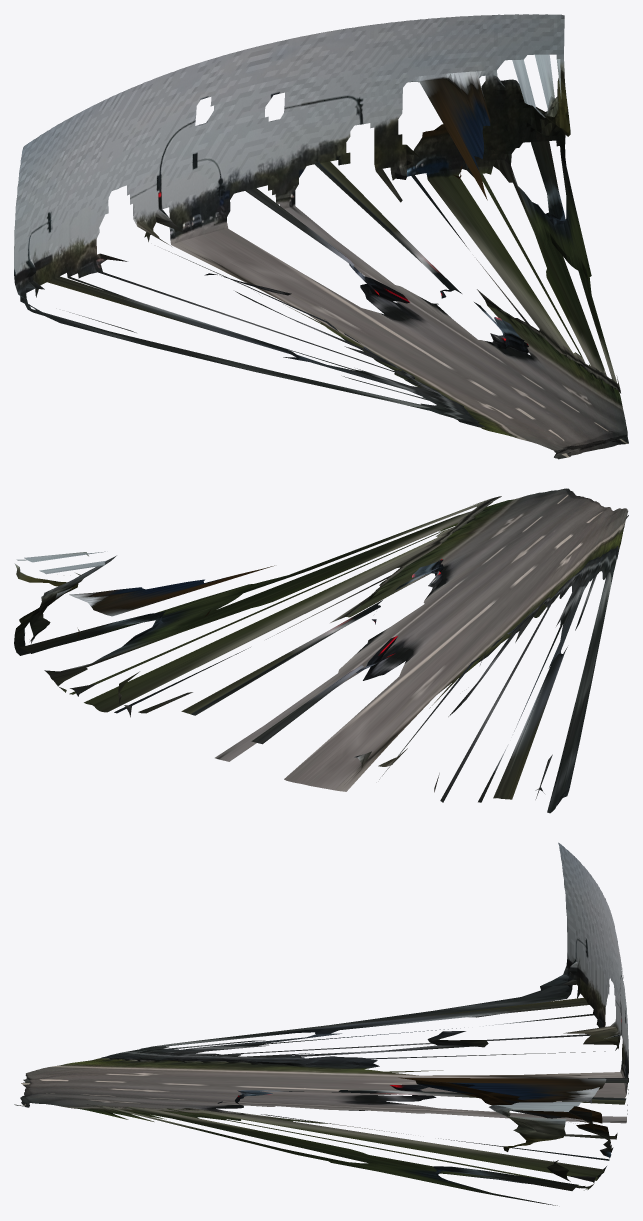
3 renders of one model, top to bottom at view 1: azimuth 30°, elevation 25°; view 2: azimuth 150°, elevation 25°; view 3: azimuth 270°, elevation 25°, orthographic. The views are drawn at different scales.
Parts seen in each view (by area): view 1: defaultobject; view 2: defaultobject; view 3: defaultobject.
Part boxes in pixels (x1,y1,x2,y2): defaultobject: (14, 14, 628, 459); defaultobject: (14, 488, 628, 813); defaultobject: (14, 842, 628, 1205).
Size of the model in its own units: 41.05 by 12.89 by 44.63.
1 material, 1 textured.
